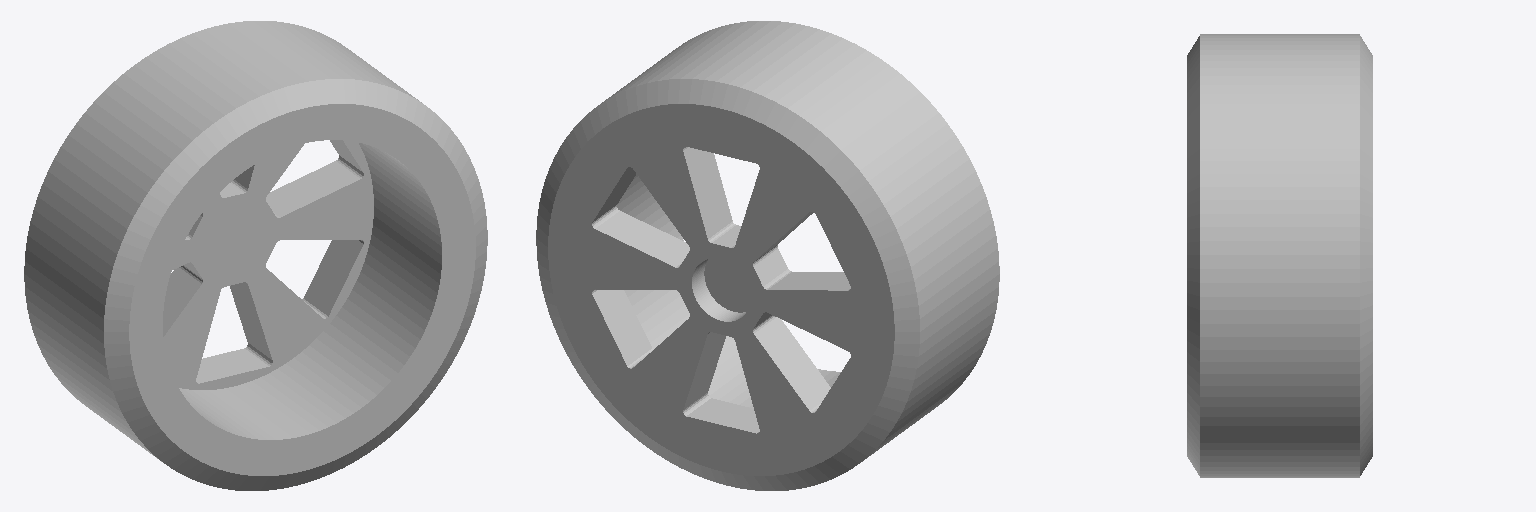
Rendered from mushr_nano_wheel_back_right.obj.
3 views of the same model, side by side, from view 1: azimuth 30°, elevation 25°; view 2: azimuth 150°, elevation 25°; view 3: azimuth 270°, elevation 25° (orthographic).
Visible parts, largest first — view 1: Racecar_Chassis_Wheel_Tire, Racecar_Chassis_Wheel_Hub; view 2: Racecar_Chassis_Wheel_Tire, Racecar_Chassis_Wheel_Hub; view 3: Racecar_Chassis_Wheel_Tire.
Boxes of the visible parts, box(x1,y1,x2,y2) form: Racecar_Chassis_Wheel_Tire: box(24, 21, 487, 490); Racecar_Chassis_Wheel_Hub: box(149, 125, 455, 454); Racecar_Chassis_Wheel_Tire: box(536, 21, 999, 490); Racecar_Chassis_Wheel_Hub: box(568, 125, 874, 454); Racecar_Chassis_Wheel_Tire: box(1187, 34, 1372, 477).
Size of the model in its own units: 0.976 by 0.976 by 0.41.